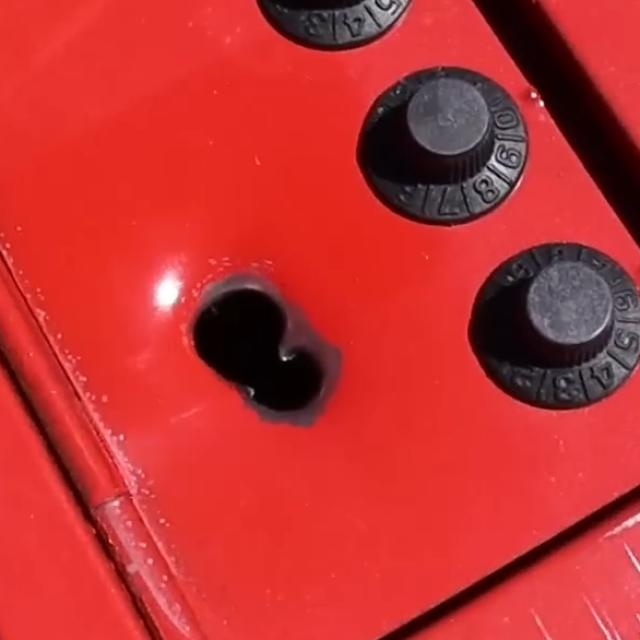bullets: (229, 327, 363, 436), (184, 277, 289, 384)
